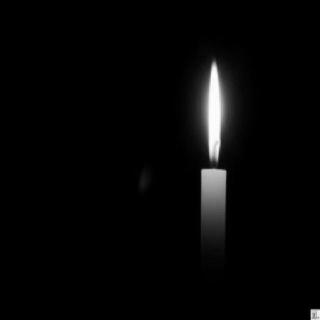Fire: (197, 49, 235, 167)
